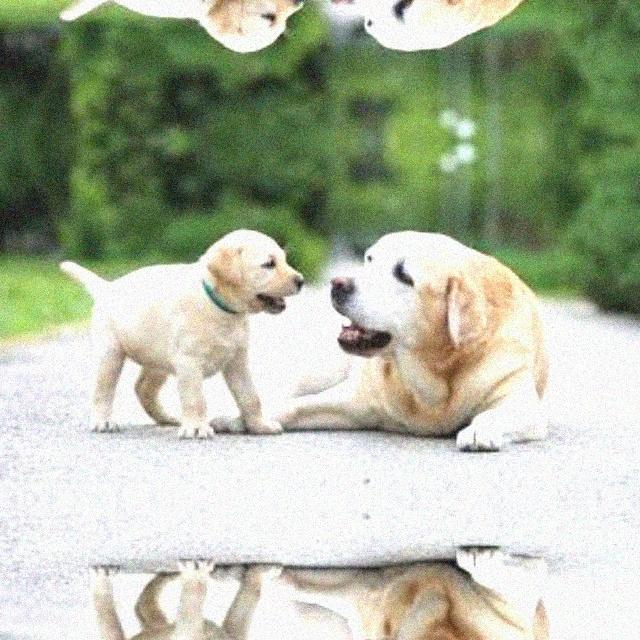dog: (57, 215, 303, 438), (324, 210, 506, 380), (57, 558, 303, 640), (57, 0, 303, 65), (324, 0, 507, 69), (324, 617, 507, 640)
